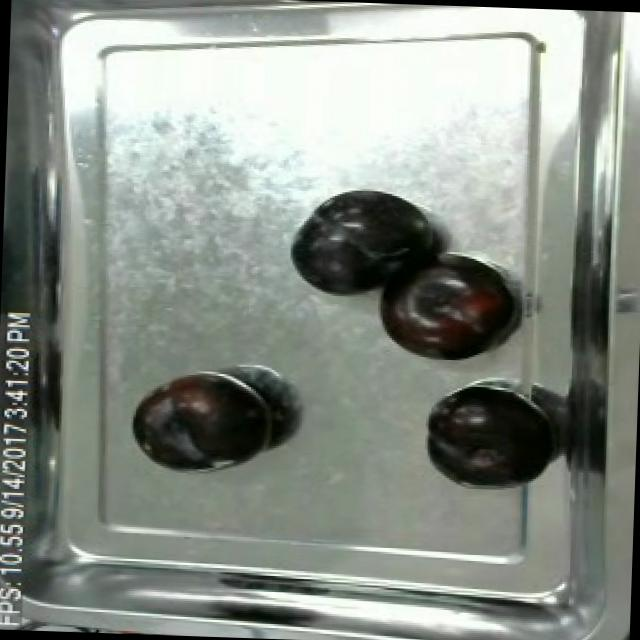Fruit: (286, 183, 439, 300), (371, 252, 518, 369), (134, 368, 281, 472), (418, 383, 556, 492)
